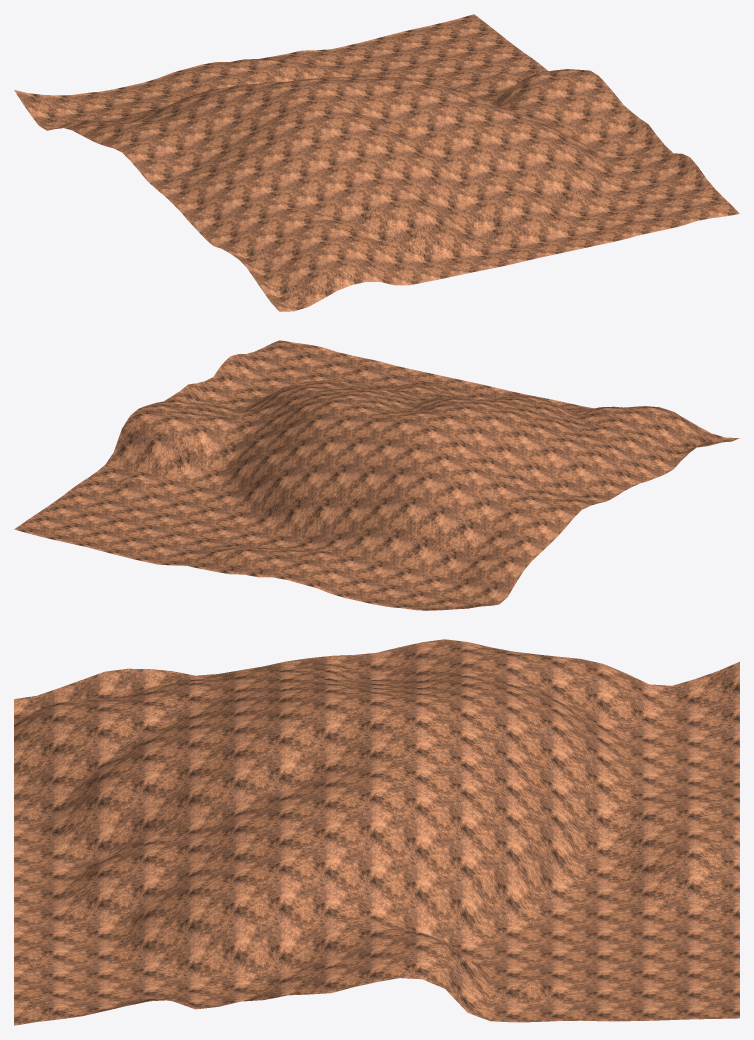
The model's file is terrain_06_06.dae.
The picture shows the model from 3 angles, top to bottom: view 1: azimuth 30°, elevation 25°; view 2: azimuth 150°, elevation 25°; view 3: azimuth 270°, elevation 25°; orthographic projection. The views are drawn at different scales.
Parts seen in each view (by area): view 1: terrain_06_06-node; view 2: terrain_06_06-node; view 3: terrain_06_06-node.
Part boxes in pixels (x1,y1,x2,y2): terrain_06_06-node: [14, 14, 739, 311]; terrain_06_06-node: [14, 340, 739, 610]; terrain_06_06-node: [14, 639, 739, 1025].
Size of the model in its own units: 128 by 128 by 24.69.
Materials: 1 (1 with a texture image).
